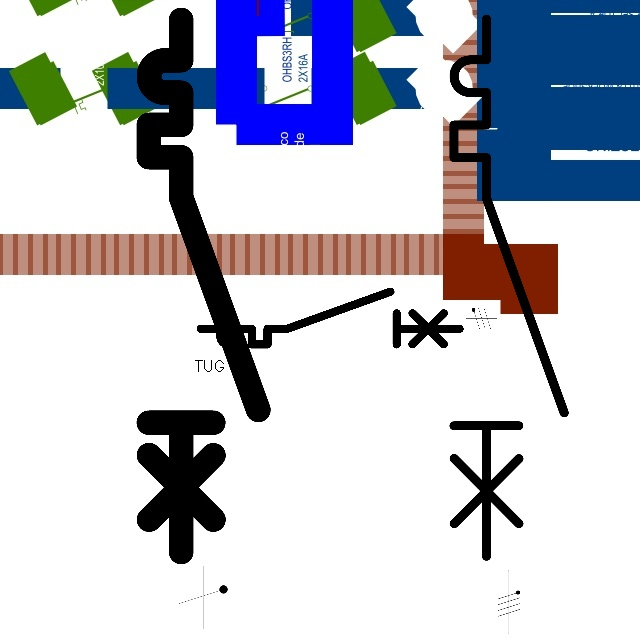interruptor_termomagnetico: (440, 5, 578, 570), (135, 6, 272, 565), (194, 285, 466, 351)
